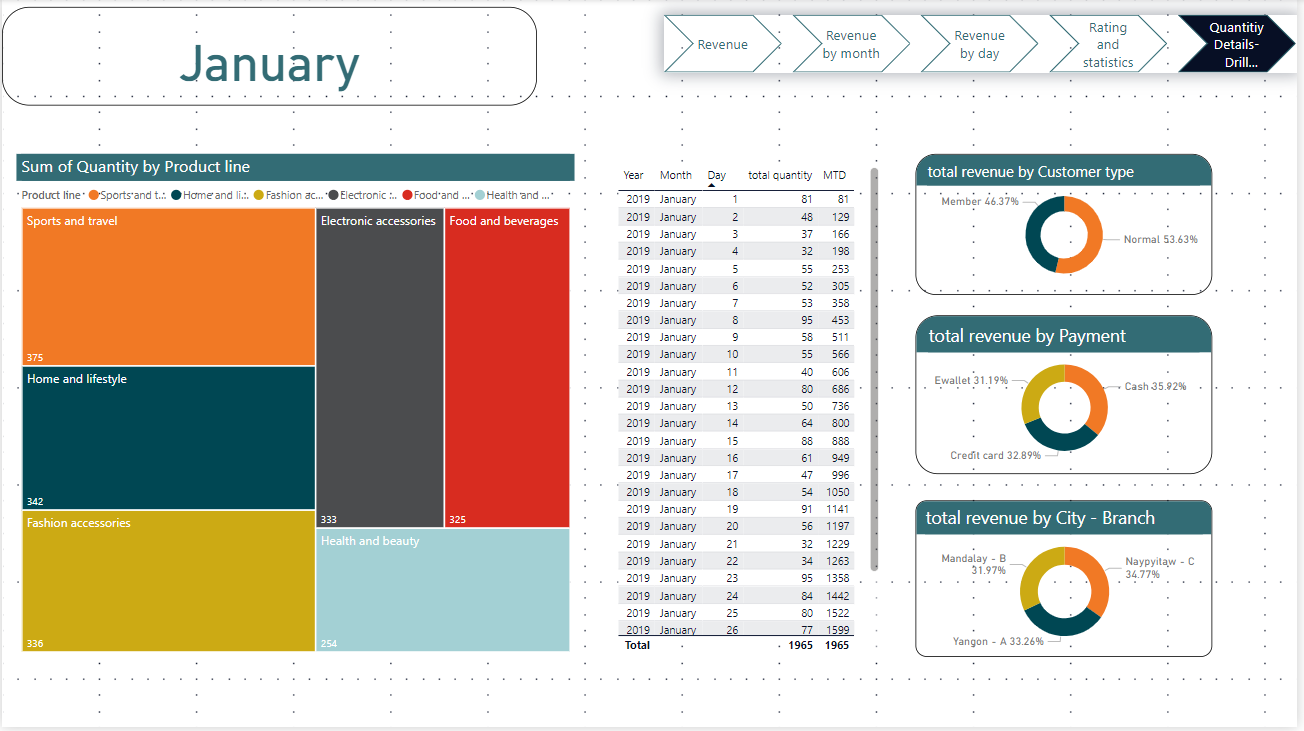

The dashboard page shown, as its layout file describes it:
{"tool":"powerbi","page":{"name":"Quantitiy Details-Drill Through","canvas":[1280,720],"ordinal":4},"visuals":[{"type":"tableEx","fields":{"Values":["DimDate.Date.Variation.Date Hierarchy.Year","DimDate.Month","DimDate.Day","DimDate.total quantity","DimDate.MTD"]},"box":[603.5,160.5,268.4,489.9],"z":0},{"type":"card","fields":{"Values":["Min(SuperMarket Sales Final.Month)"]},"box":[0,7.1,528.6,97.6],"z":1000},{"type":"treemap","fields":{"Group":["SuperMarket Sales Final.Product line"],"Values":["Sum(SuperMarket Sales Final.Quantity)"]},"box":[14.1,153.5,552,496.9],"z":2000},{"type":"donutChart","fields":{"Category":["SuperMarket Sales Final.Payment"],"Y":["DimDate.total revenue"]},"box":[903.5,312.9,293,157],"z":3000},{"type":"donutChart","fields":{"Category":["SuperMarket Sales Final.City - Branch"],"Y":["DimDate.total revenue"]},"box":[903.5,495.7,293,154.7],"z":4000},{"type":"donutChart","fields":{"Category":["SuperMarket Sales Final.Customer type"],"Y":["DimDate.total revenue"]},"box":[903.5,153.5,293,139.5],"z":5000},{"type":"pageNavigator","box":[653.6,15.5,626.2,57.1],"z":6000}]}

Visuals, with their boxes in screenshot pixels (x1, y1, x2, y2), scaled from the page's 1280x720 canvas onto the 1304x731 screenshot:
tableEx - DimDate.Date.Variation.Date Hierarchy.Year x DimDate.Month: 615,163,888,660
card - Min(SuperMarket Sales Final.Month): 0,7,539,106
treemap - SuperMarket Sales Final.Product line x Sum(SuperMarket Sales Final.Quantity): 14,156,577,660
donutChart - SuperMarket Sales Final.Payment x DimDate.total revenue: 920,318,1219,477
donutChart - SuperMarket Sales Final.City - Branch x DimDate.total revenue: 920,503,1219,660
donutChart - SuperMarket Sales Final.Customer type x DimDate.total revenue: 920,156,1219,297
pageNavigator: 666,16,1303,74
